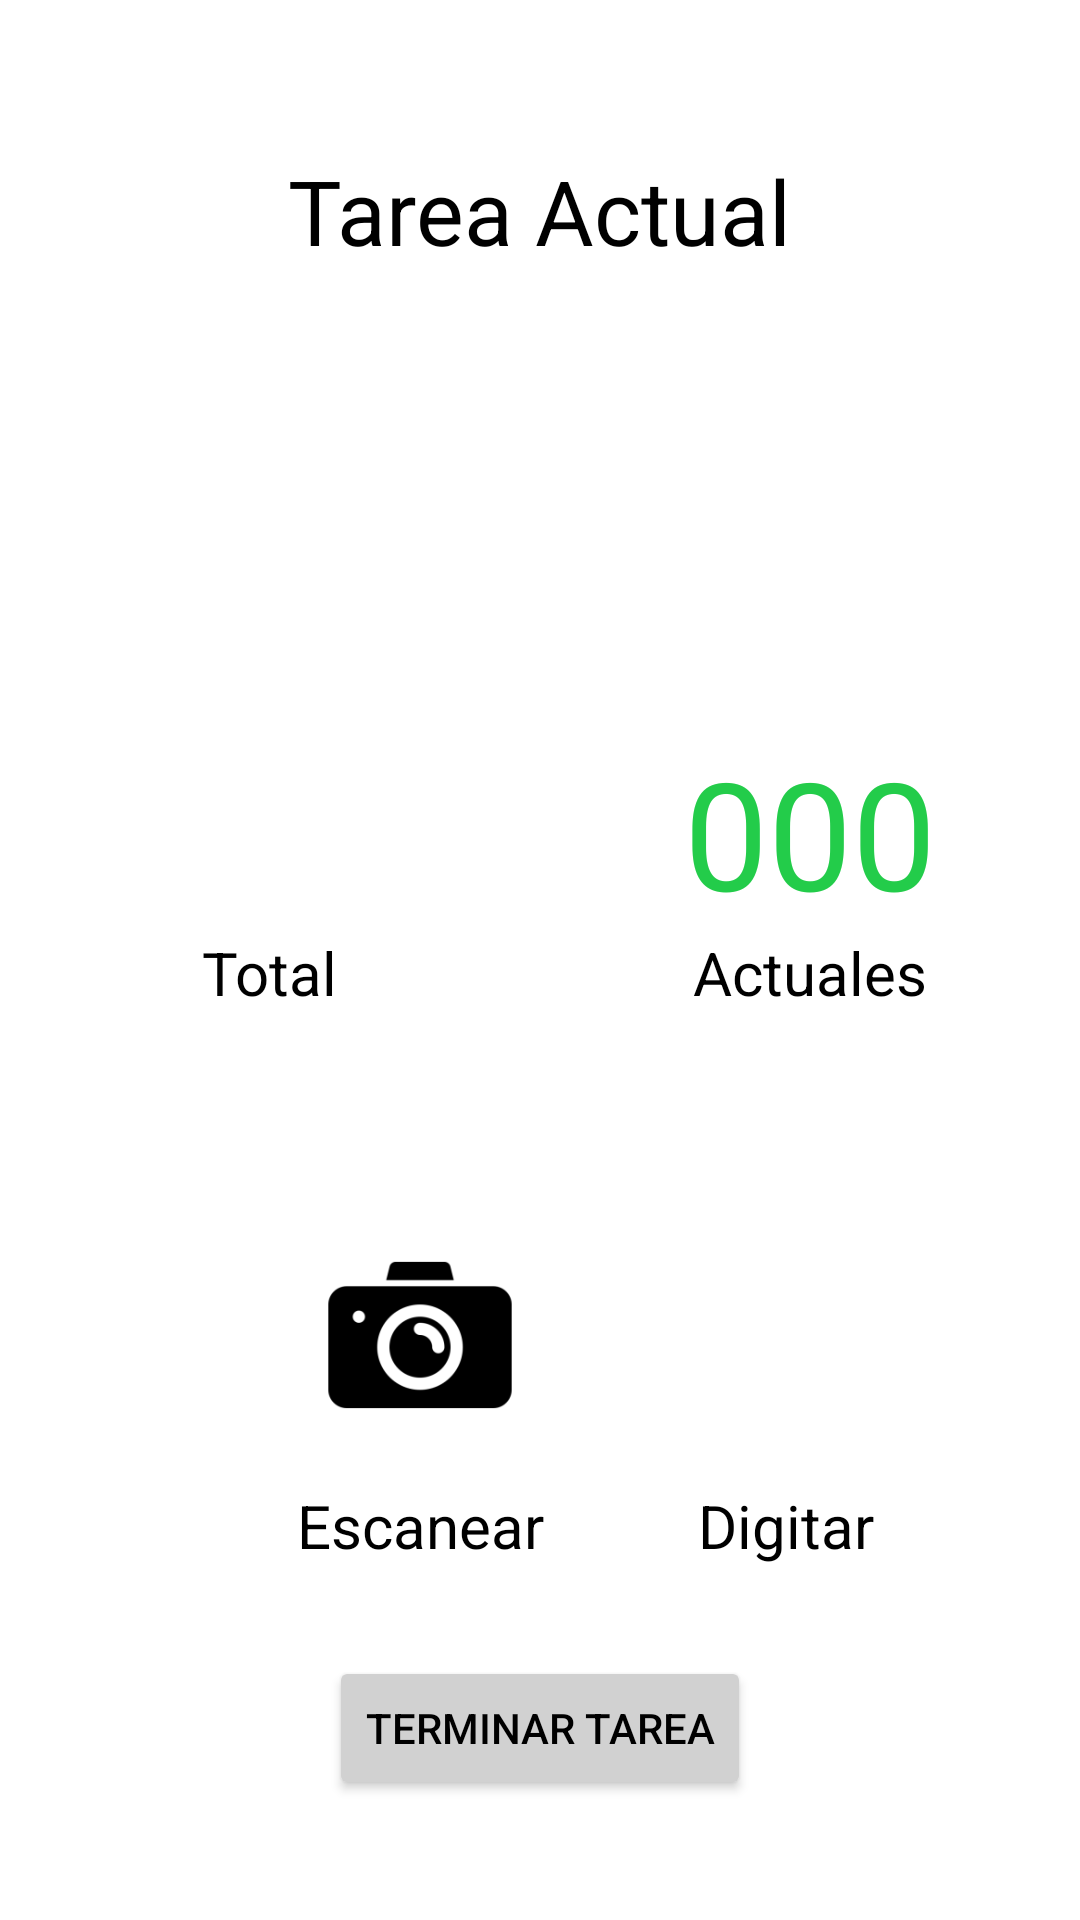

Screen size 1080x1920. Icon name, then its center in pixels as point (x, y):
camera: point (420, 1335)
